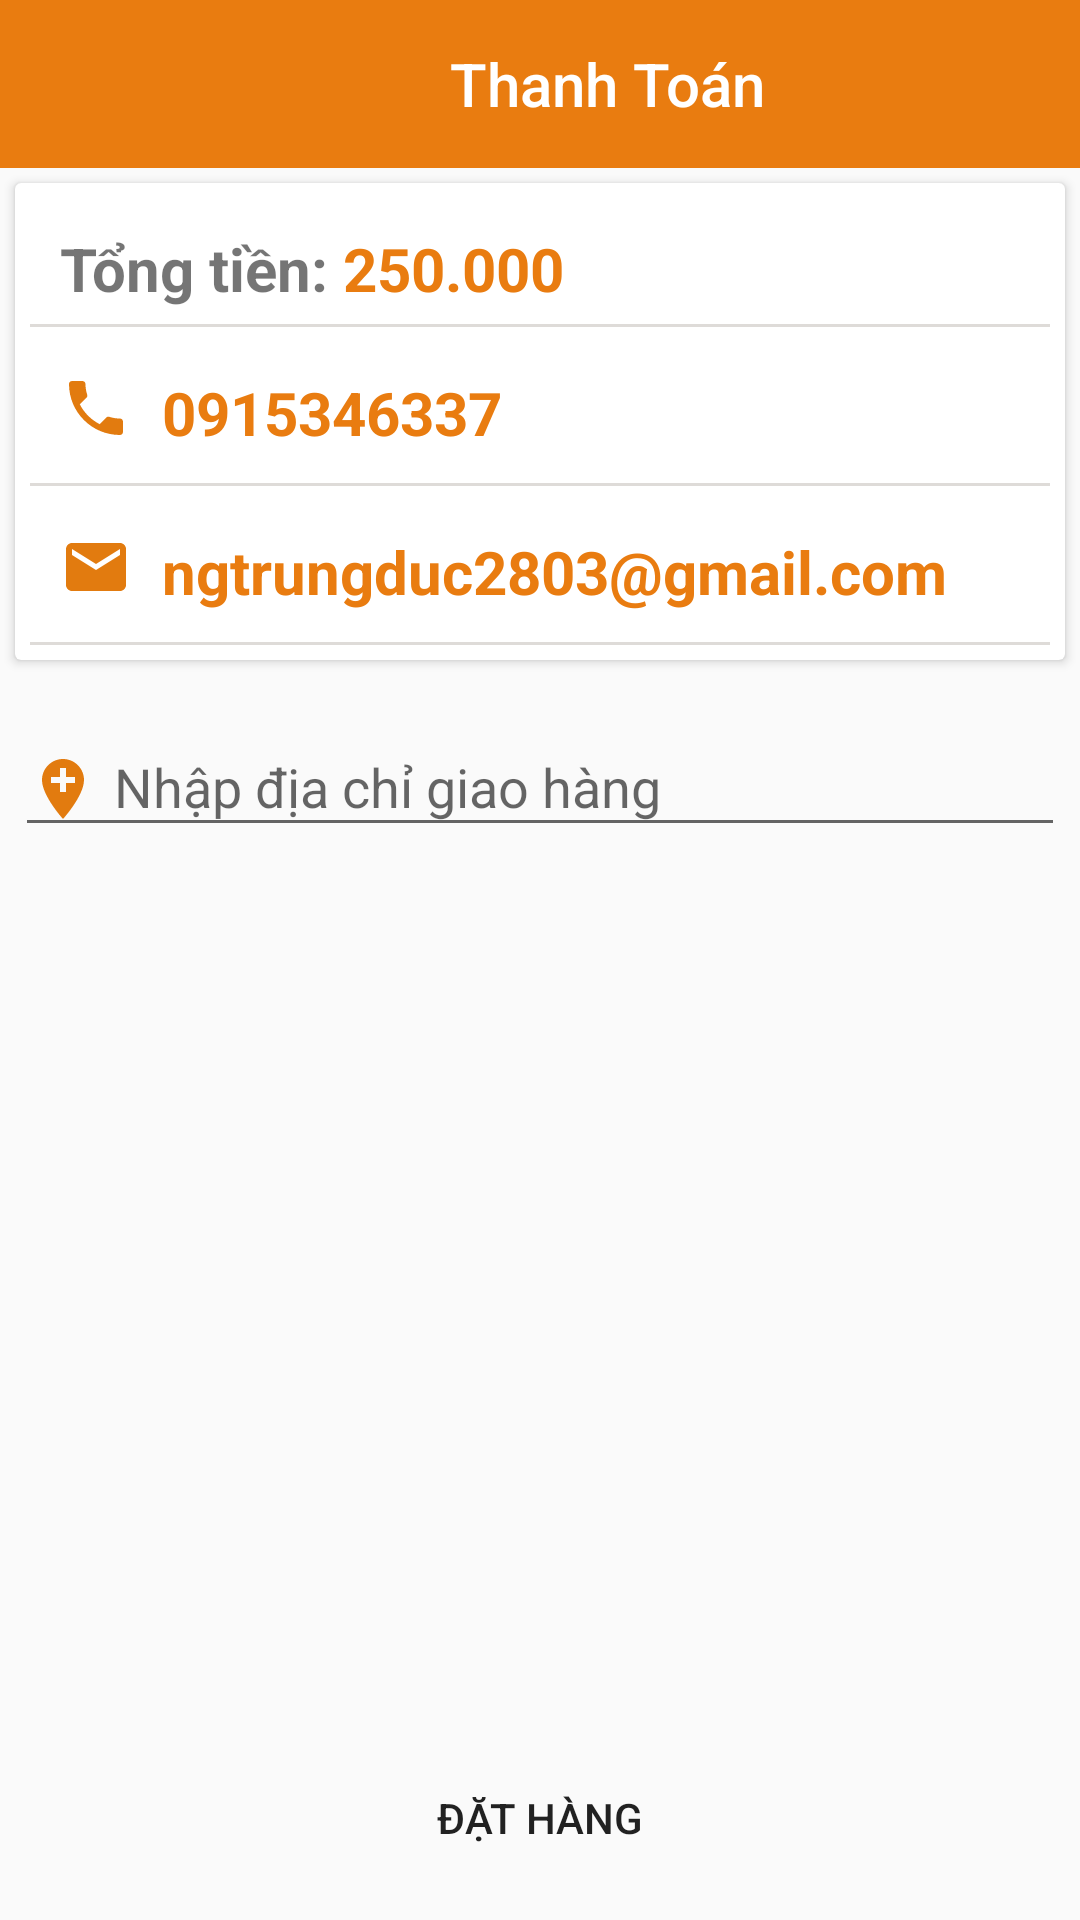

Icon click points for this 1080w x 1920h phone screenshot, format point (x, y):
email: point (96, 567)
local phone: point (96, 408)
